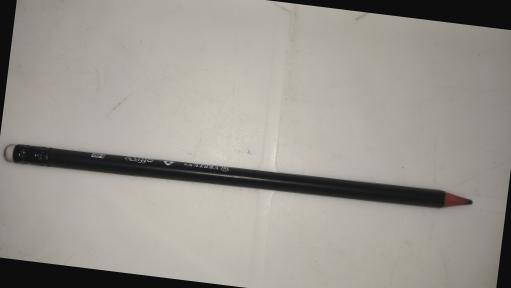Pencil: (0, 138, 471, 220)
